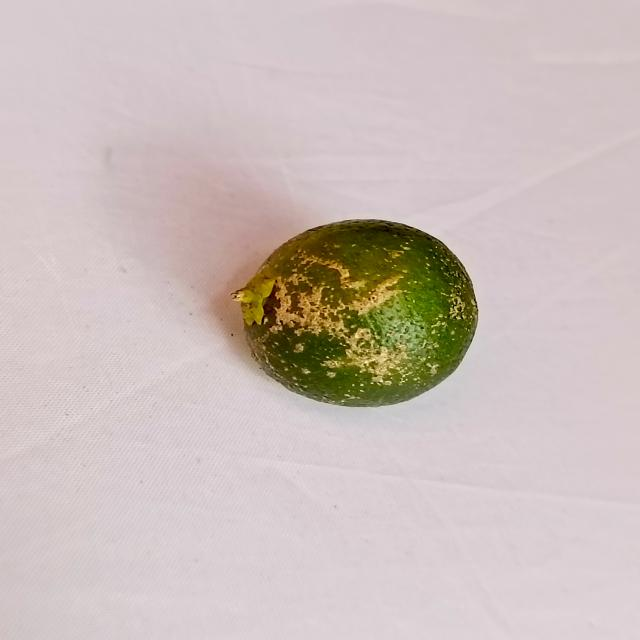scab: (233, 219, 477, 408)
